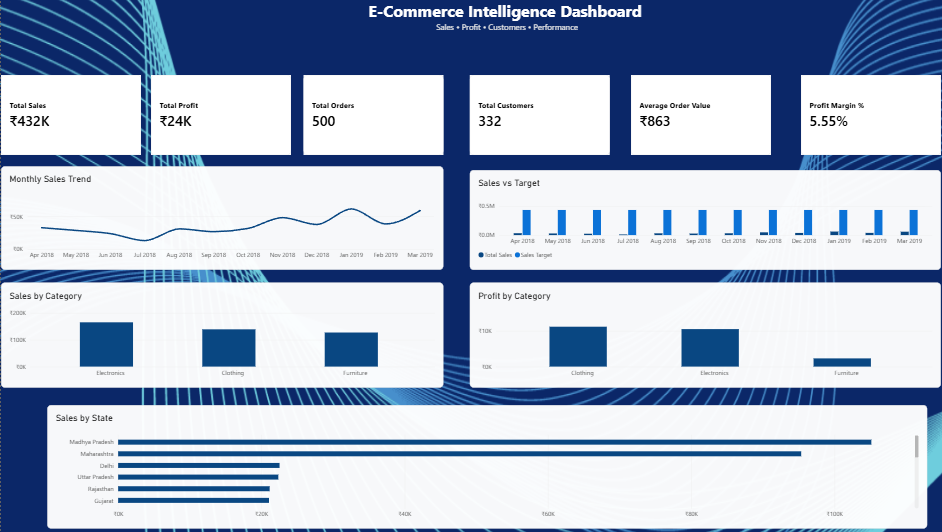

The page's visual inventory and layout, read from the dashboard file:
{"tool":"powerbi","page":{"name":"Executive Overview","canvas":[1920,1080],"ordinal":0},"visuals":[{"type":"cardVisual","fields":{"Data":["DimCategory.Total Sales"]},"box":[0,150,280,160],"z":0},{"type":"cardVisual","fields":{"Data":["DimCategory.Total Profit"]},"box":[300,150,280,160],"z":1000},{"type":"cardVisual","fields":{"Data":["DimCategory.Total Orders"]},"box":[605,150,280,160],"z":2000},{"type":"cardVisual","fields":{"Data":["DimCategory.Total Customers"]},"box":[937.5,150,280,160],"z":3000},{"type":"cardVisual","fields":{"Data":["DimCategory.Average Order Value"]},"box":[1260,150,280,160],"z":4000},{"type":"cardVisual","fields":{"Data":["DimCategory.Profit Margin %"]},"box":[1600,150,280,160],"z":5000},{"type":"lineChart","title":"Monthly Sales Trend","fields":{"Category":["DimDate.Month Year"],"Y":["DimCategory.Total Sales"]},"box":[0,332.5,885,207.5],"z":5001},{"type":"clusteredColumnChart","title":"Sales by Category","fields":{"Category":["OrderDetails.Category"],"Y":["DimCategory.Total Sales"]},"box":[0,565,885,210],"z":5002},{"type":"clusteredColumnChart","title":"Profit by Category","fields":{"Category":["OrderDetails.Category"],"Y":["DimCategory.Total Profit"]},"box":[937.5,565,942.5,210],"z":5003},{"type":"lineClusteredColumnComboChart","title":"Sales vs Target","fields":{"Category":["DimDate.Month Year"],"Y":["DimCategory.Total Sales","DimCategory.Sales Target"]},"box":[937.5,340,942.5,200],"z":5004},{"type":"clusteredBarChart","title":"Sales by State","fields":{"Category":["Orders.State"],"Y":["DimCategory.Total Sales"]},"box":[92.5,810,1760,247.5],"z":5005},{"type":"textbox","box":[579.3,0,864.4,140.2],"z":5007}]}

Visuals, with their boxes in screenshot pixels (x1, y1, x2, y2), scaled from the page's 1920x1080 canvas onto the 942x532 screenshot:
cardVisual - DimCategory.Total Sales: (0,74,137,153)
cardVisual - DimCategory.Total Profit: (147,74,285,153)
cardVisual - DimCategory.Total Orders: (297,74,434,153)
cardVisual - DimCategory.Total Customers: (460,74,597,153)
cardVisual - DimCategory.Average Order Value: (618,74,756,153)
cardVisual - DimCategory.Profit Margin %: (785,74,922,153)
"Monthly Sales Trend" lineChart: (0,164,434,266)
"Sales by Category" clusteredColumnChart: (0,278,434,382)
"Profit by Category" clusteredColumnChart: (460,278,922,382)
"Sales vs Target" lineClusteredColumnComboChart: (460,167,922,266)
"Sales by State" clusteredBarChart: (45,399,909,521)
textbox: (284,0,708,69)
